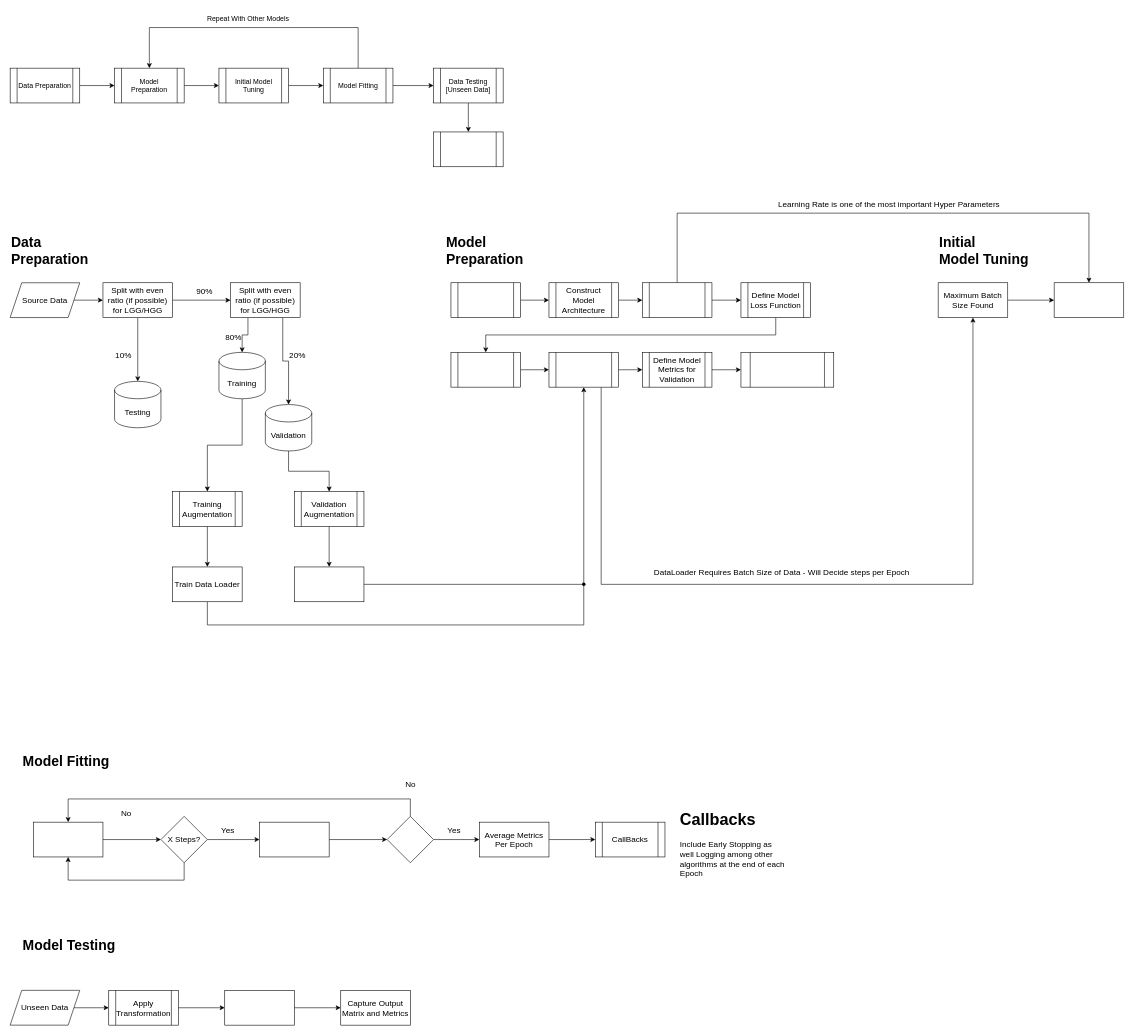
The diagram is 1134 pixels wide and 1035 high, and some of its shapes have lost their labels. The centre of each missing label's shape, as x and y in pixels:
"Define Data Loading Procedure" belongs at point (583, 369).
"Define Model Behavior for Training/Validation" belongs at point (787, 369).
"Define Model Hyper parameters" belongs at point (677, 300).
"Define Model Optimizer" belongs at point (485, 369).
"Epoch End?" belongs at point (410, 839).
"Initial Learning Rate Found*" belongs at point (1089, 300).
"Selection of Final Model(s)" belongs at point (468, 149).
"Selection of Model Architecture" belongs at point (485, 300).
"Training Step" belongs at point (68, 839).
"Use Same Procedure as Validation" belongs at point (259, 1007).
"Validation Data Loader" belongs at point (329, 584).
"Validation Step" belongs at point (294, 839).
